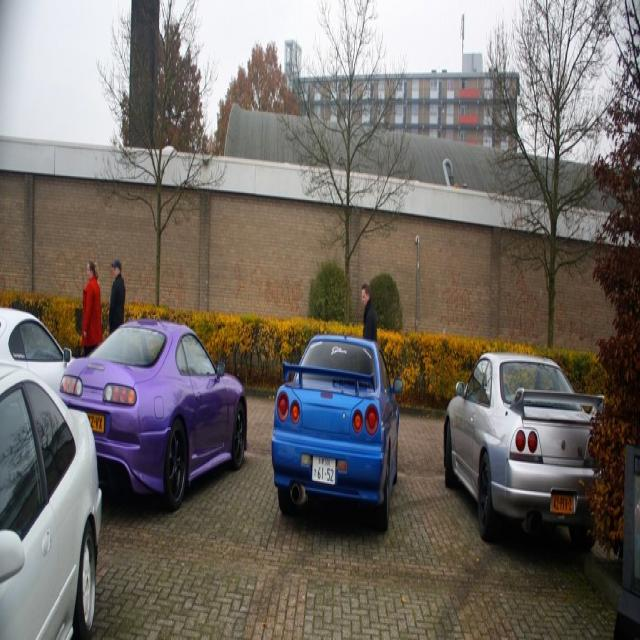other: (60, 314, 251, 515), (441, 341, 607, 539), (0, 356, 103, 639), (270, 322, 401, 520), (0, 307, 74, 400)
